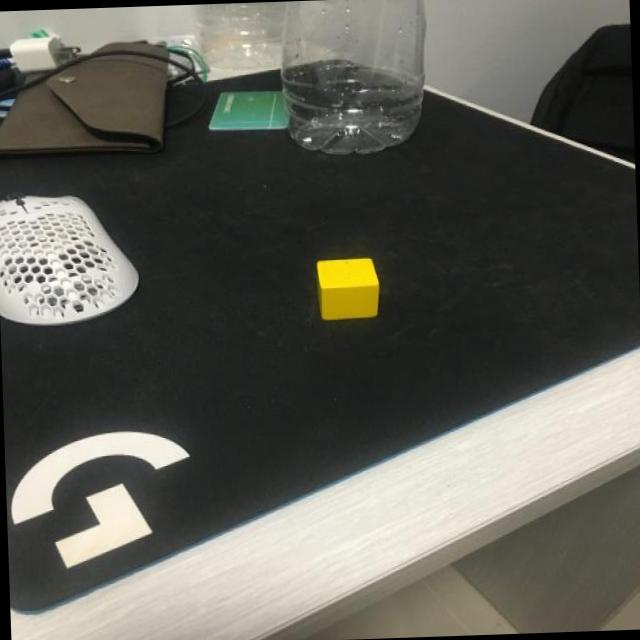yellow: (314, 256, 381, 322)
